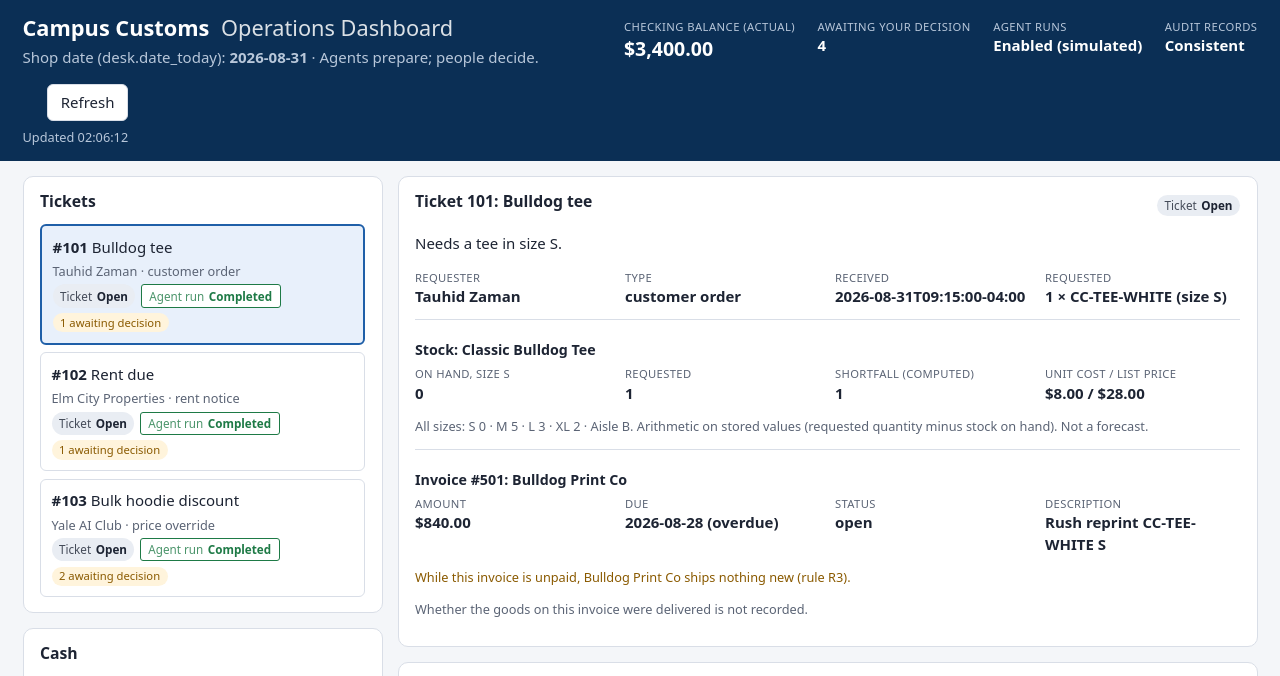
it: human decisions › shows the pending proposals with the right consequences for each kind
The width and height of the screenshot is (1280, 676).
Click the button with aria-label "Ticket 103: Bulk hoodie discount, open" at [202, 538], box x1=40 y1=479 x2=365 y2=597
(page scrolled)
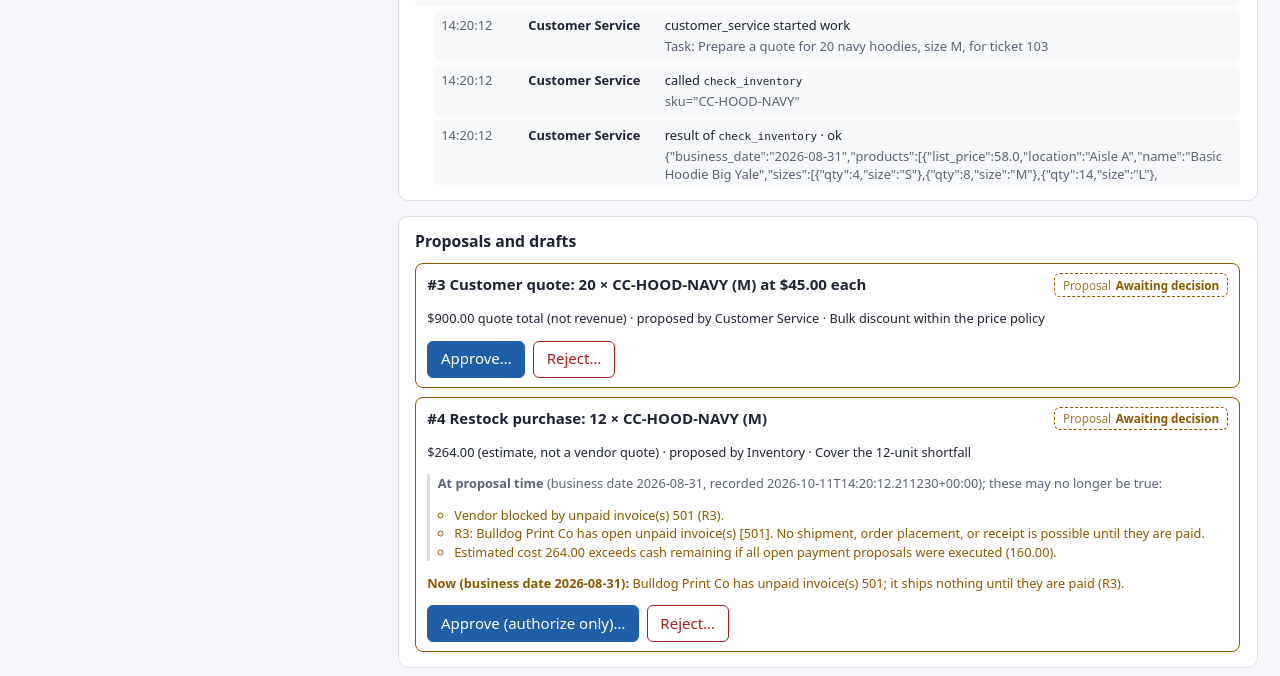
Now the text "#3 Customer quote: 20 × CC-HOOD-NAVY (M) at $45.00 each" is shown, box x1=427 y1=274 x2=866 y2=296
Now the text "#4 Restock purchase: 12 × CC-HOOD-NAVY (M)" is shown, box x1=427 y1=408 x2=767 y2=430
Now the text "$264.00 (estimate, not a vendor quote)" is shown, box x1=427 y1=443 x2=659 y2=461
Click the button "Approve…" at [476, 359], box x1=427 y1=341 x2=526 y2=378
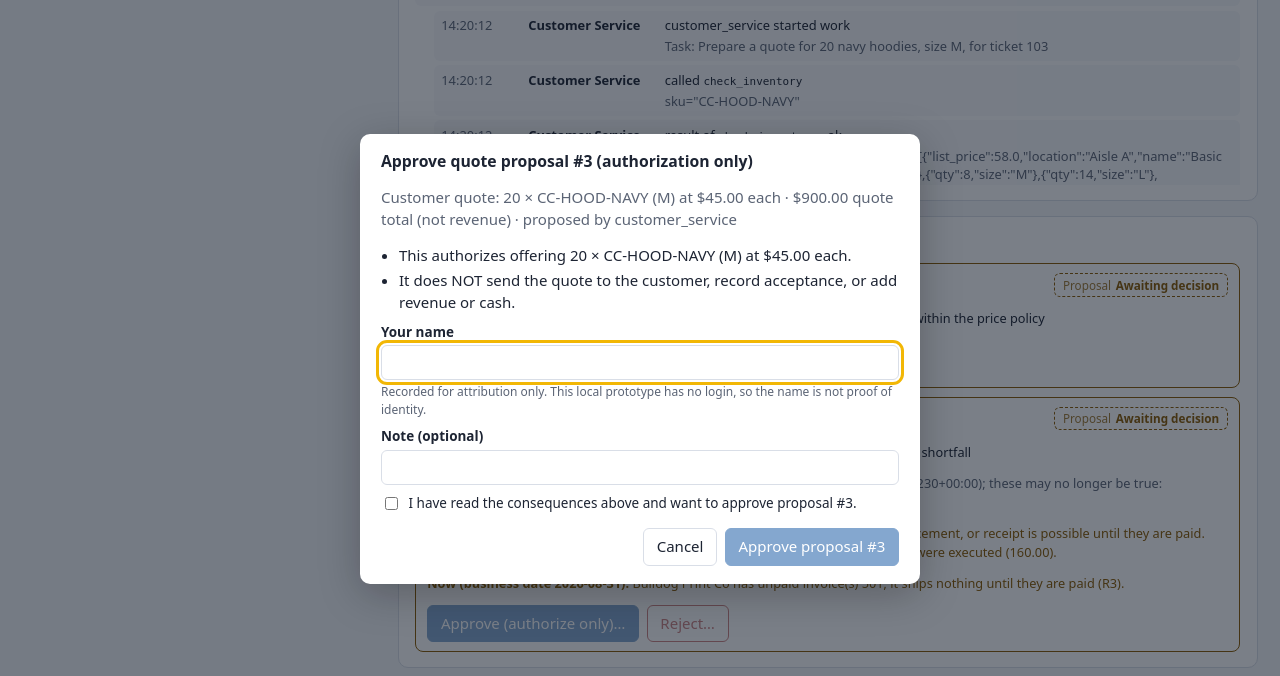
Now the list item "does NOT send the quote to the customer" is shown, box x1=399 y1=270 x2=897 y2=312
Click the button "Cancel" at [680, 547], box x1=643 y1=528 x2=717 y2=566
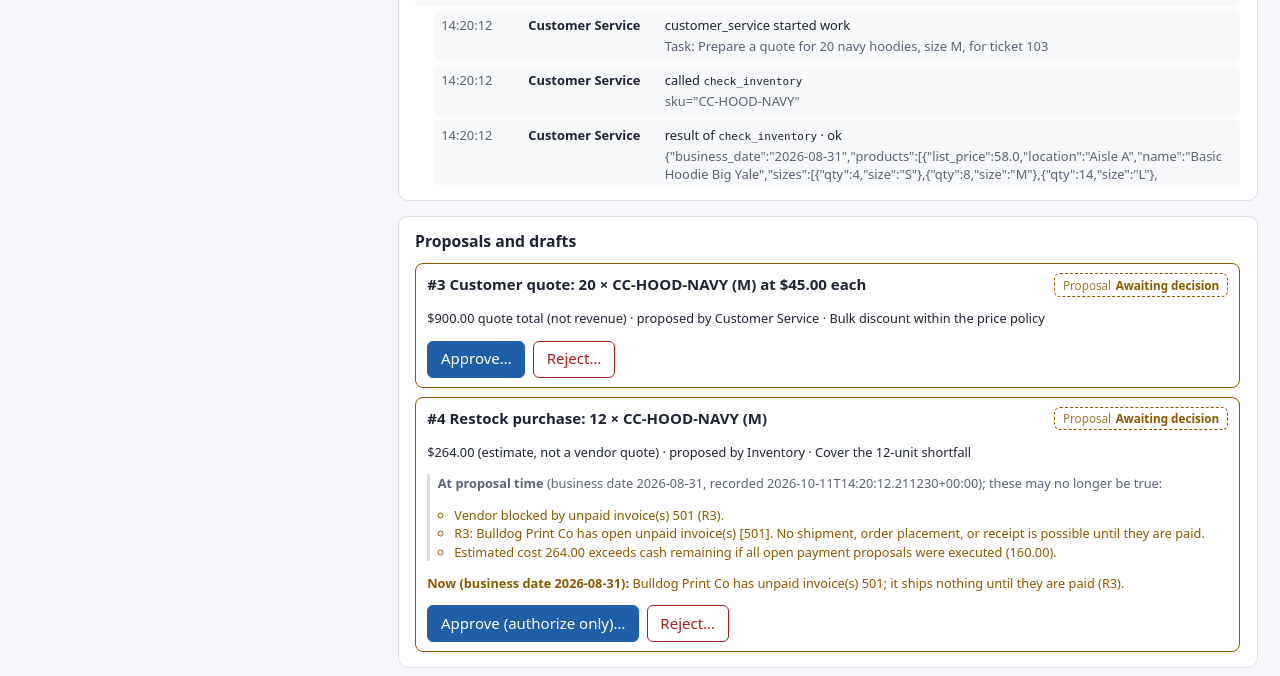
Click the button "Approve (authorize only)…" at [533, 624], box x1=427 y1=605 x2=639 y2=642
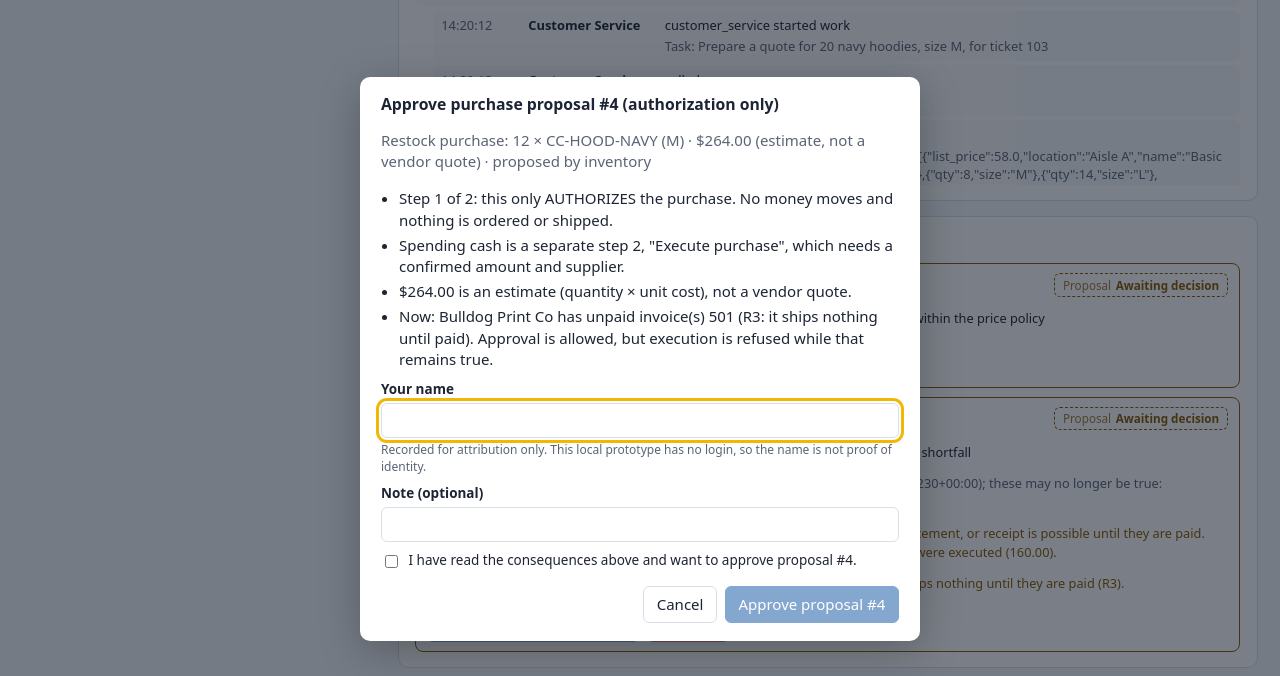
Now the list item "this only AUTHORIZES the purchase. No money moves" is shown, box x1=399 y1=188 x2=893 y2=230
Now the list item "separate step 2, \"Execute purchase\"" is shown, box x1=399 y1=235 x2=893 y2=276
Now the 4th list item is shown, box x1=399 y1=306 x2=878 y2=369
Click the button "Cancel" at [680, 605], box x1=643 y1=586 x2=717 y2=623
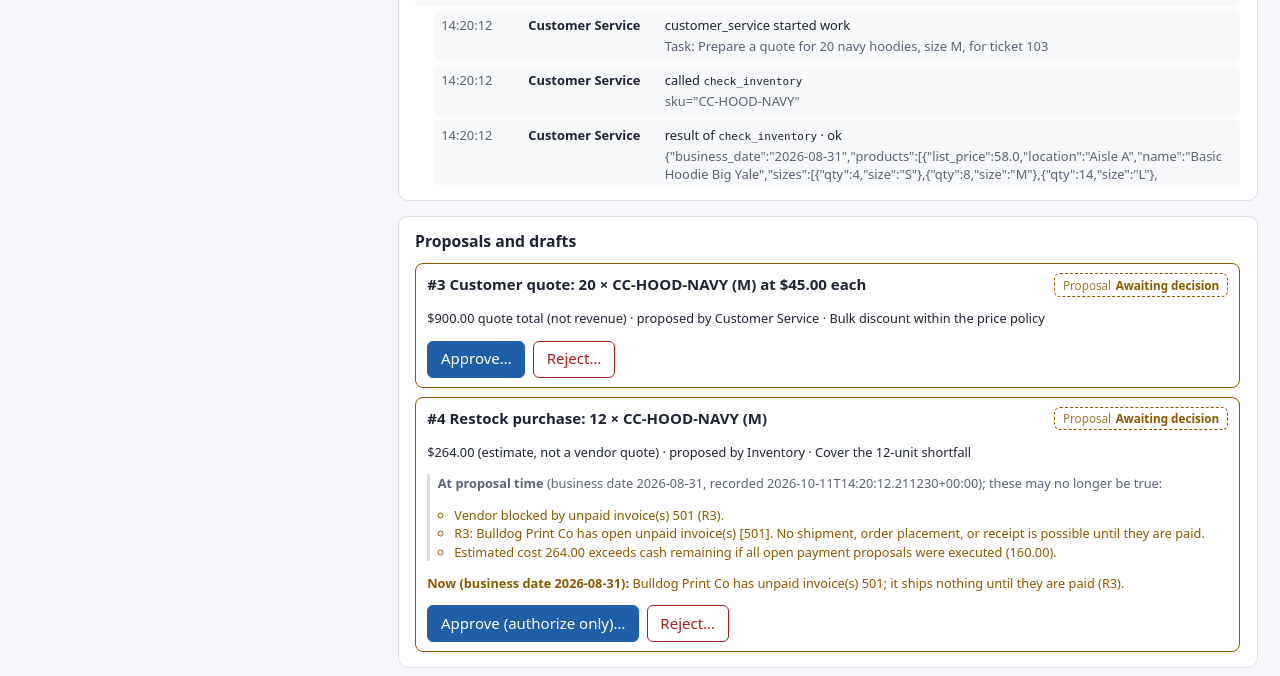
Click the button "Reject…" below "$900.00 quote total (not revenue)" at [574, 359], box x1=533 y1=341 x2=615 y2=378
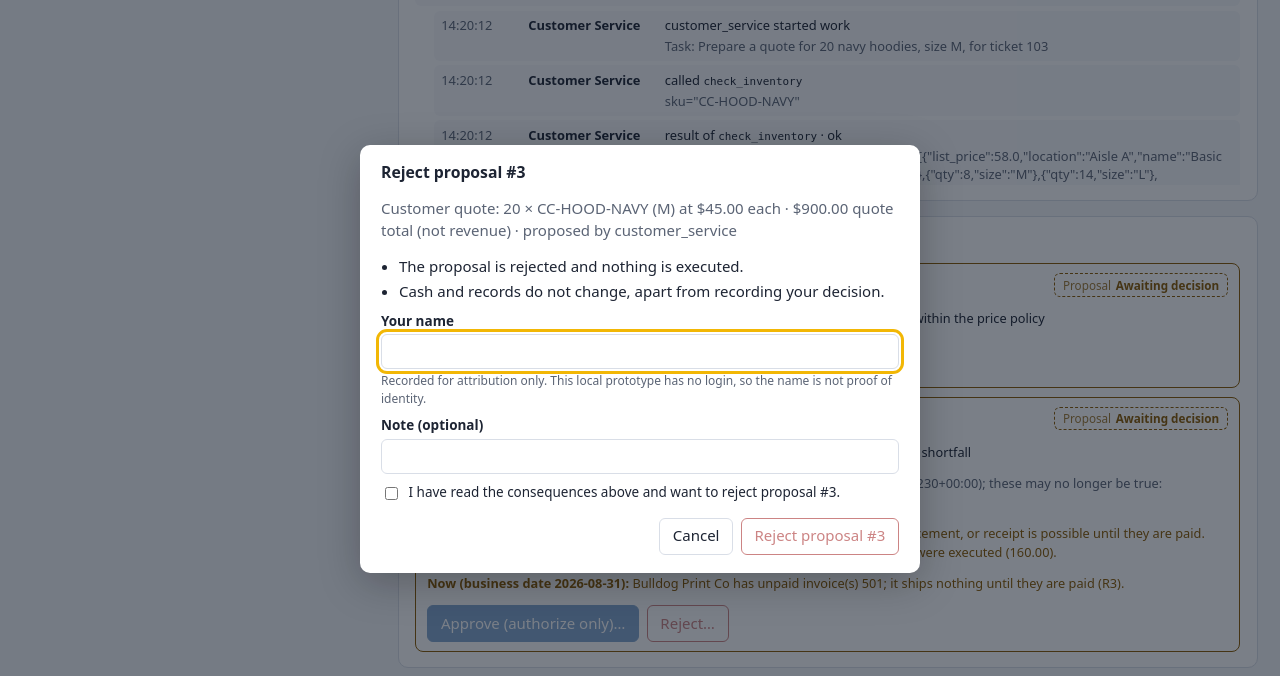
Now the list item "The proposal is rejected and nothing is executed." is shown, box x1=399 y1=256 x2=744 y2=276
